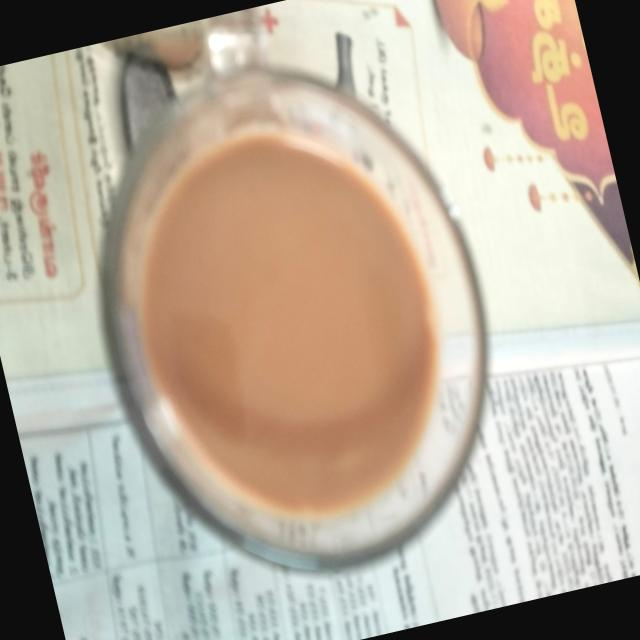glass-VX4N: (34, 0, 541, 620)
